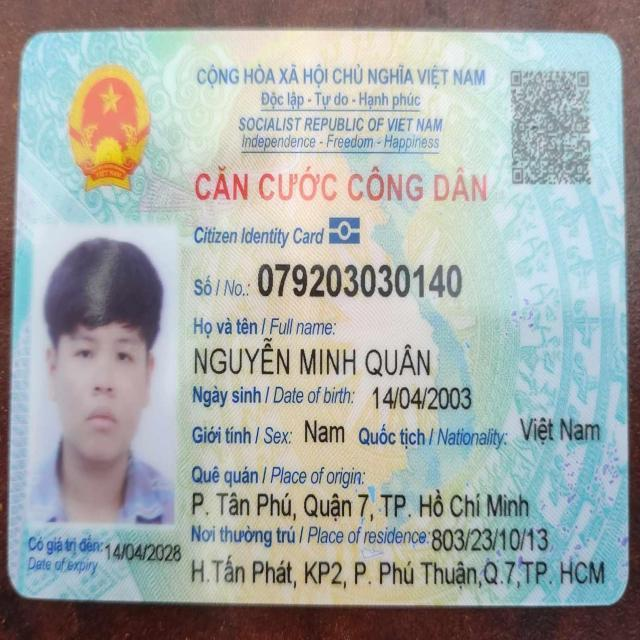current_place: (188, 555, 605, 591), (427, 526, 550, 554)
dob: (369, 382, 476, 415)
expire_date: (103, 538, 185, 563)
gender: (301, 412, 347, 448)
id: (254, 258, 463, 301)
name: (189, 339, 434, 381)
nationality: (518, 410, 602, 444)
origin_place: (188, 485, 532, 520)
